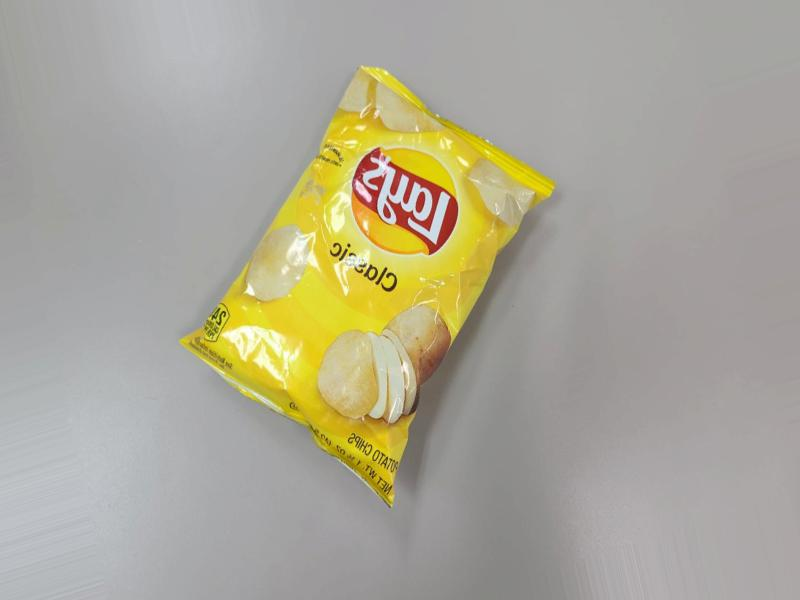lays: (187, 120, 581, 555)
